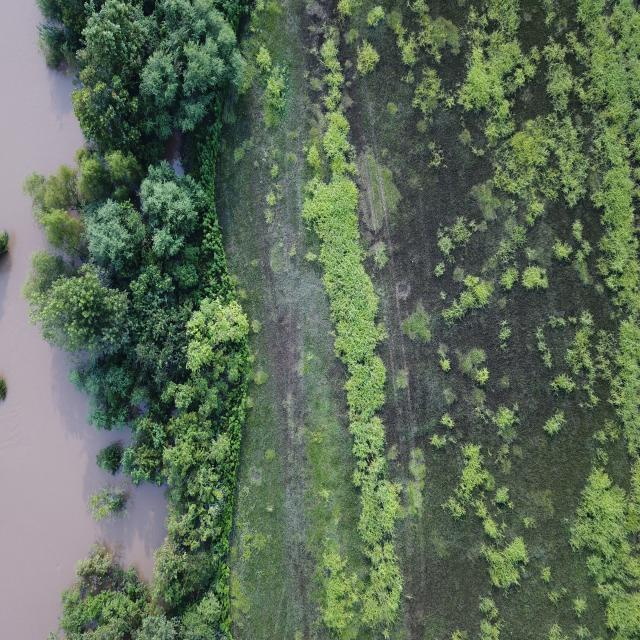fire: (0, 0, 166, 639)
